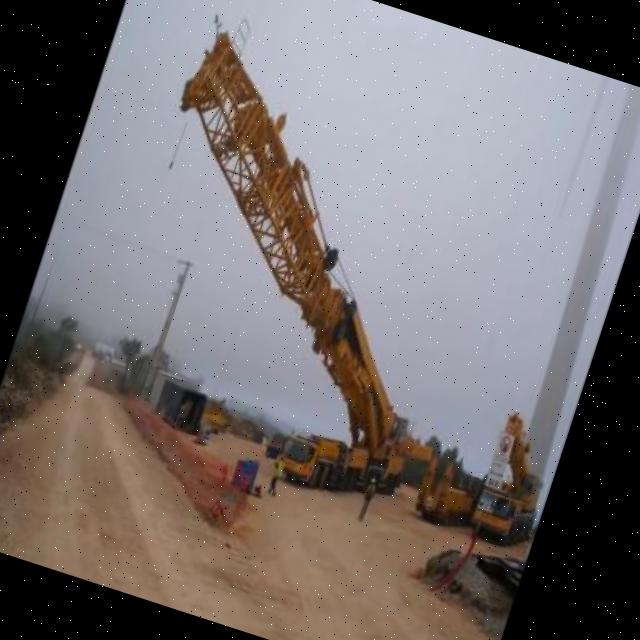Mobile Crane: (79, 21, 537, 515), (470, 414, 560, 553)
